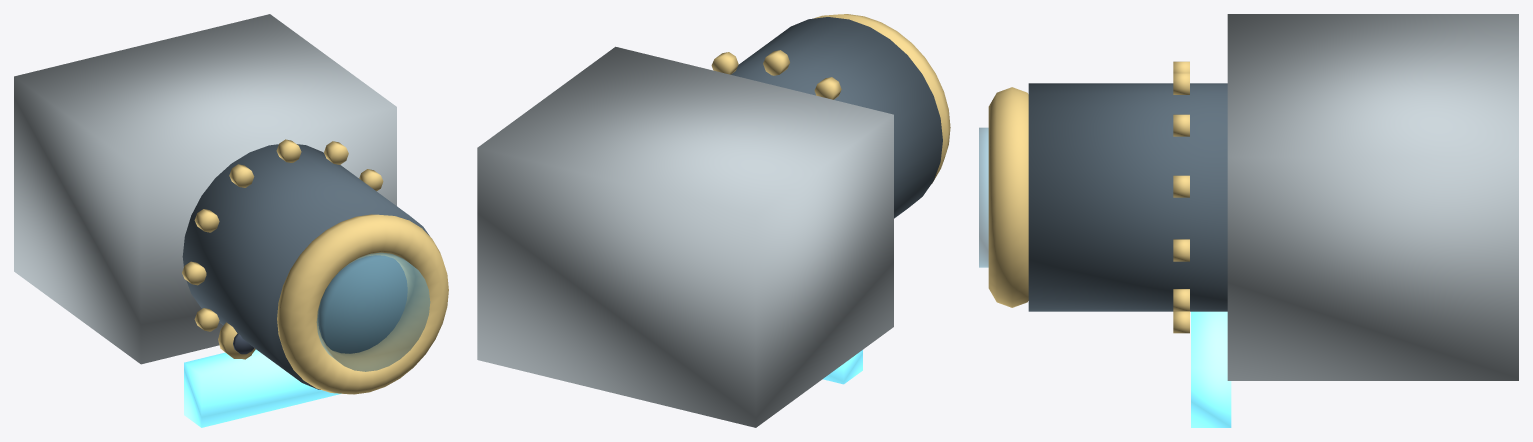
File: 41_L84_CoarseSunSensorCluster.glb
3 views of the same model, side by side, from view 1: azimuth 30°, elevation 25°; view 2: azimuth 150°, elevation 25°; view 3: azimuth 270°, elevation 25° (orthographic). The views are drawn at different scales.
Parts seen in each view (by area): view 1: L84_CoarseSunSensorCluster, L84_CoarseSunSensorCluster_Part_0006; view 2: L84_CoarseSunSensorCluster; view 3: L84_CoarseSunSensorCluster.
Boxes of the visible parts, x1,y1,x2,y2 form: L84_CoarseSunSensorCluster: (14,14,448,427); L84_CoarseSunSensorCluster_Part_0006: (218,322,255,358); L84_CoarseSunSensorCluster: (477,14,950,427); L84_CoarseSunSensorCluster: (979,14,1518,427).
Size of the model in its own units: 0.92 by 0.922 by 1.47.
